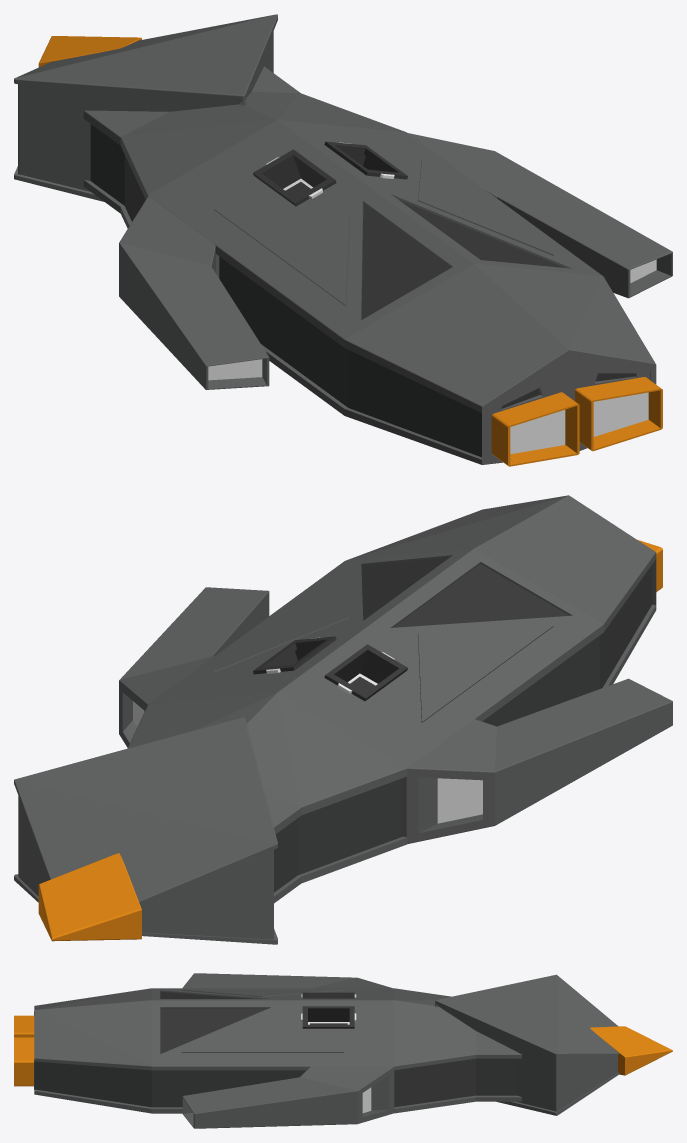
Rendered from PenguinatorCollider.fbx.
The picture shows the model from 3 angles, top to bottom: view 1: azimuth 30°, elevation 25°; view 2: azimuth 150°, elevation 25°; view 3: azimuth 270°, elevation 25°; orthographic projection. The views are drawn at different scales.
Parts seen in each view (by area): view 1: PenguinatorCollider; view 2: PenguinatorCollider; view 3: PenguinatorCollider.
Boxes of the visible parts, x1=… form: PenguinatorCollider: x1=14, y1=14, x2=672, y2=466; PenguinatorCollider: x1=14, y1=495, x2=672, y2=944; PenguinatorCollider: x1=14, y1=973, x2=672, y2=1128.
Bounding box in the file's own units: 1277 × 370 × 2526.
